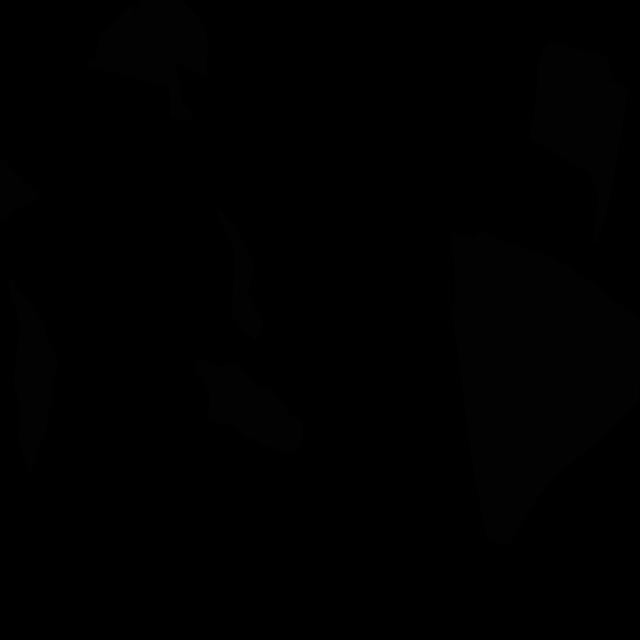cardboard: (451, 231, 640, 545), (530, 42, 628, 244), (85, 0, 208, 120), (192, 360, 304, 455), (8, 278, 58, 473), (216, 207, 264, 341), (0, 156, 42, 221)
